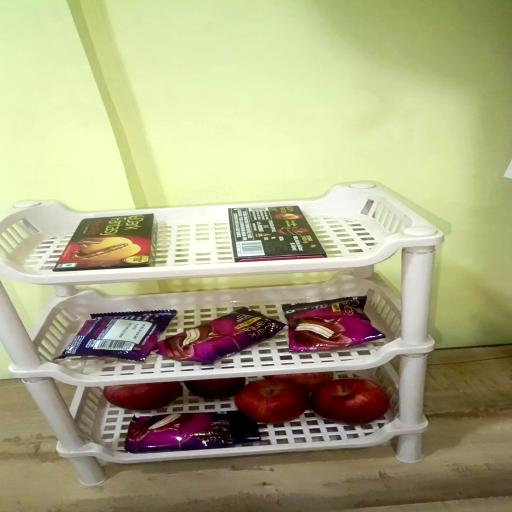Apple: (310, 378, 389, 424), (237, 378, 310, 424), (102, 382, 182, 410), (268, 372, 335, 394), (184, 378, 246, 400)
Choco Fills: (52, 216, 153, 273), (230, 207, 328, 263)
Choco Pie: (156, 307, 288, 364), (55, 311, 175, 362), (282, 297, 386, 352), (128, 412, 262, 452)
